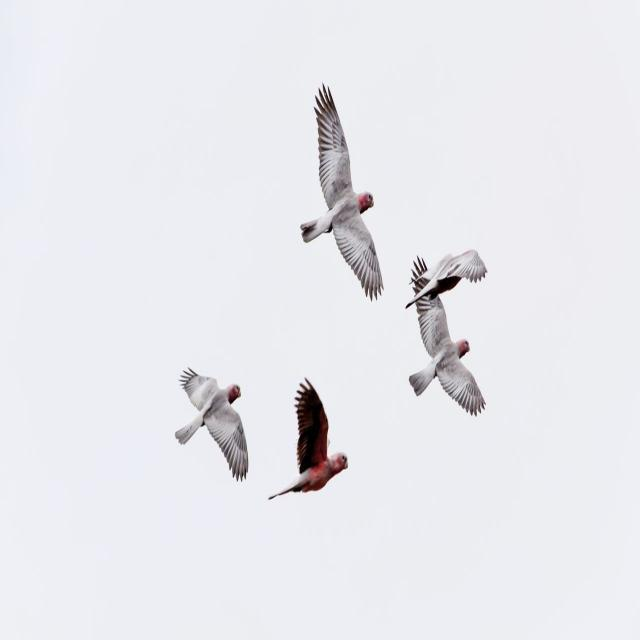bird: (292, 75, 390, 309), (398, 226, 496, 426), (176, 369, 252, 486), (281, 381, 351, 498)
